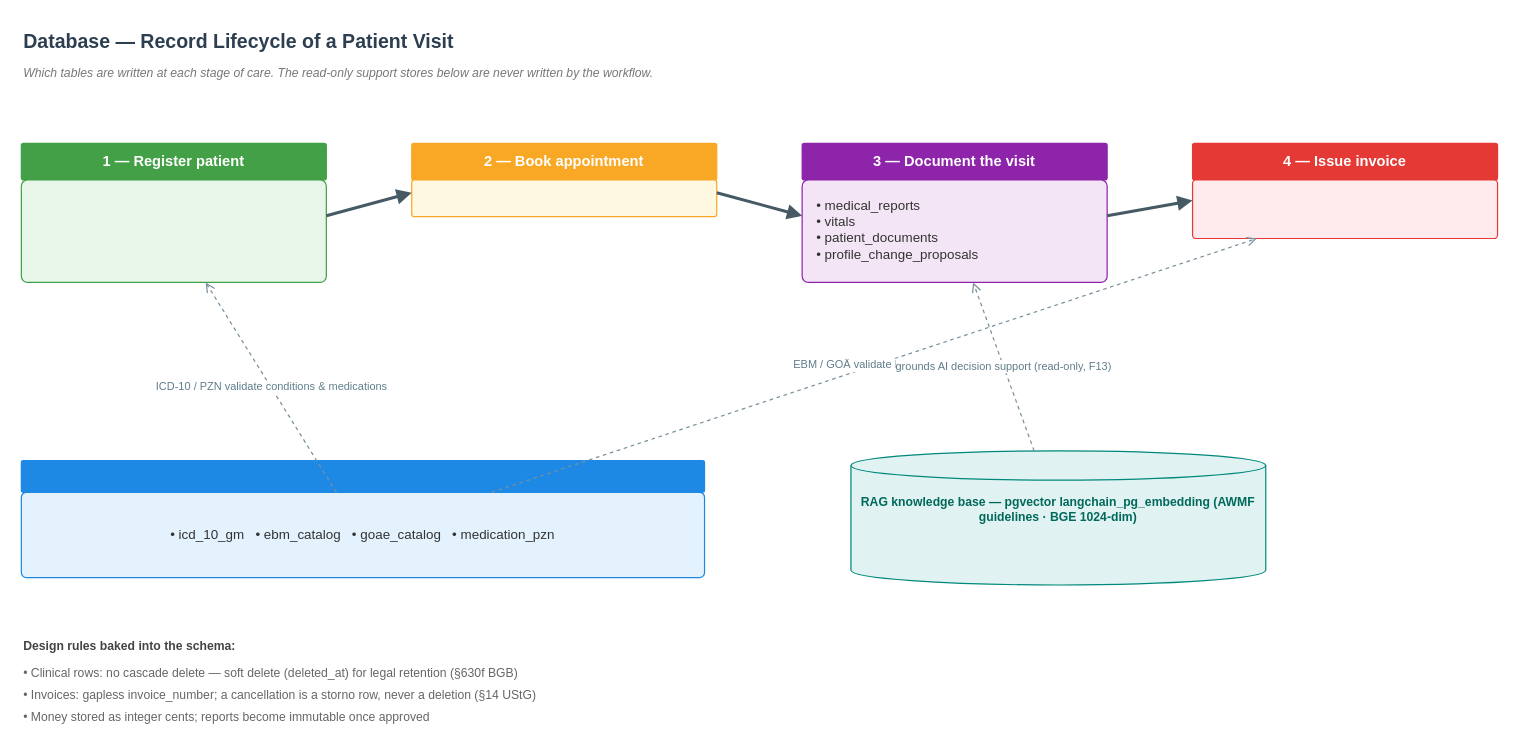
Some shapes in this 1519 by 745 pixel diagram are drawn without their labels. The centre of each missing label's shape, as x and y in pixels:
Reference catalogs (read-only, official German code sets): [362,475]
• appointments: [564,198]
• invoices • report_billing_codes: [1344,209]
• patients • patient_allergies • patient_conditions • medications: [173,230]
